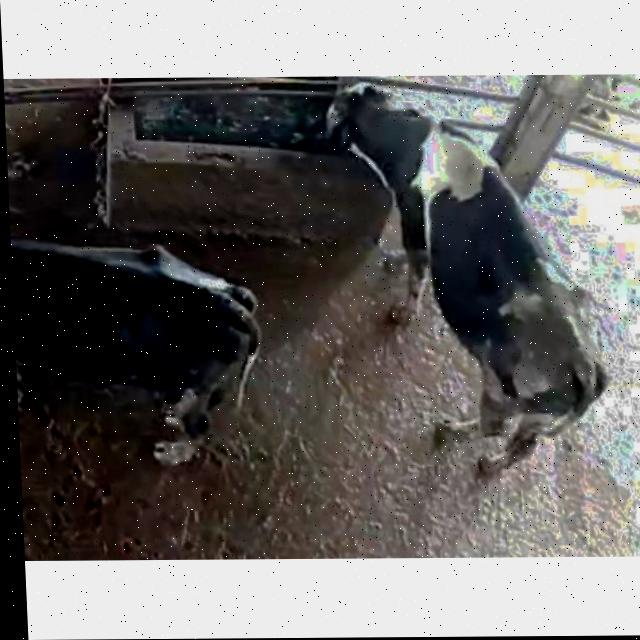drink: (276, 75, 463, 221)
